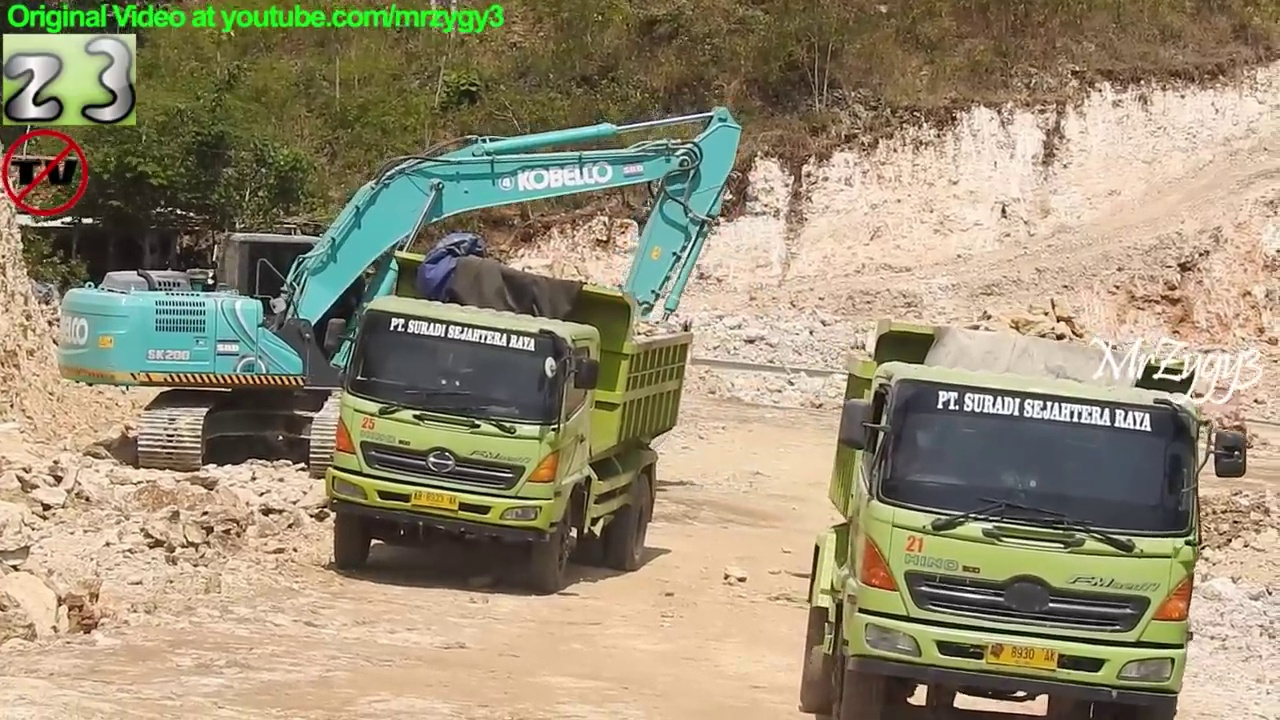excavator: (50, 96, 750, 489)
truck: (796, 314, 1253, 720), (319, 243, 699, 600)
